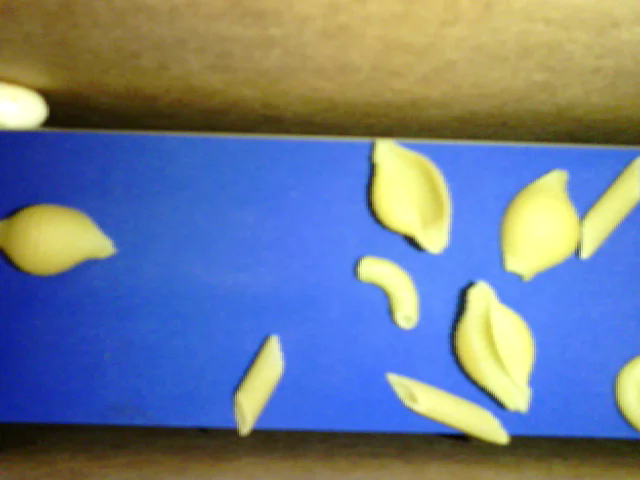elbow: (354, 253, 419, 330)
penne: (384, 370, 510, 445), (578, 156, 639, 262), (233, 332, 285, 436)
shell: (454, 280, 535, 414), (369, 138, 452, 254), (500, 167, 580, 284), (1, 204, 118, 278)
